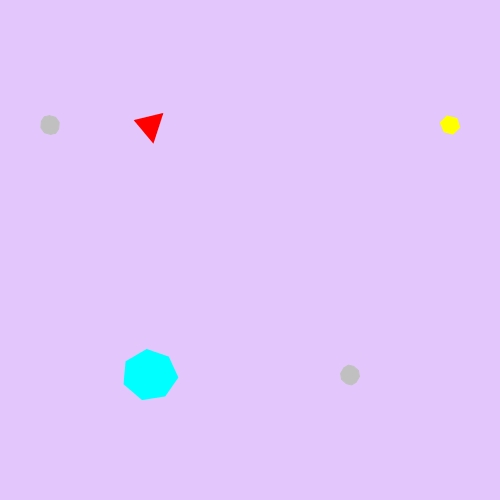decagon: (35, 111, 65, 139), (335, 361, 365, 389)
heptagon: (120, 346, 181, 404)
hexagon: (435, 112, 465, 138)
triangle: (133, 107, 168, 144)
